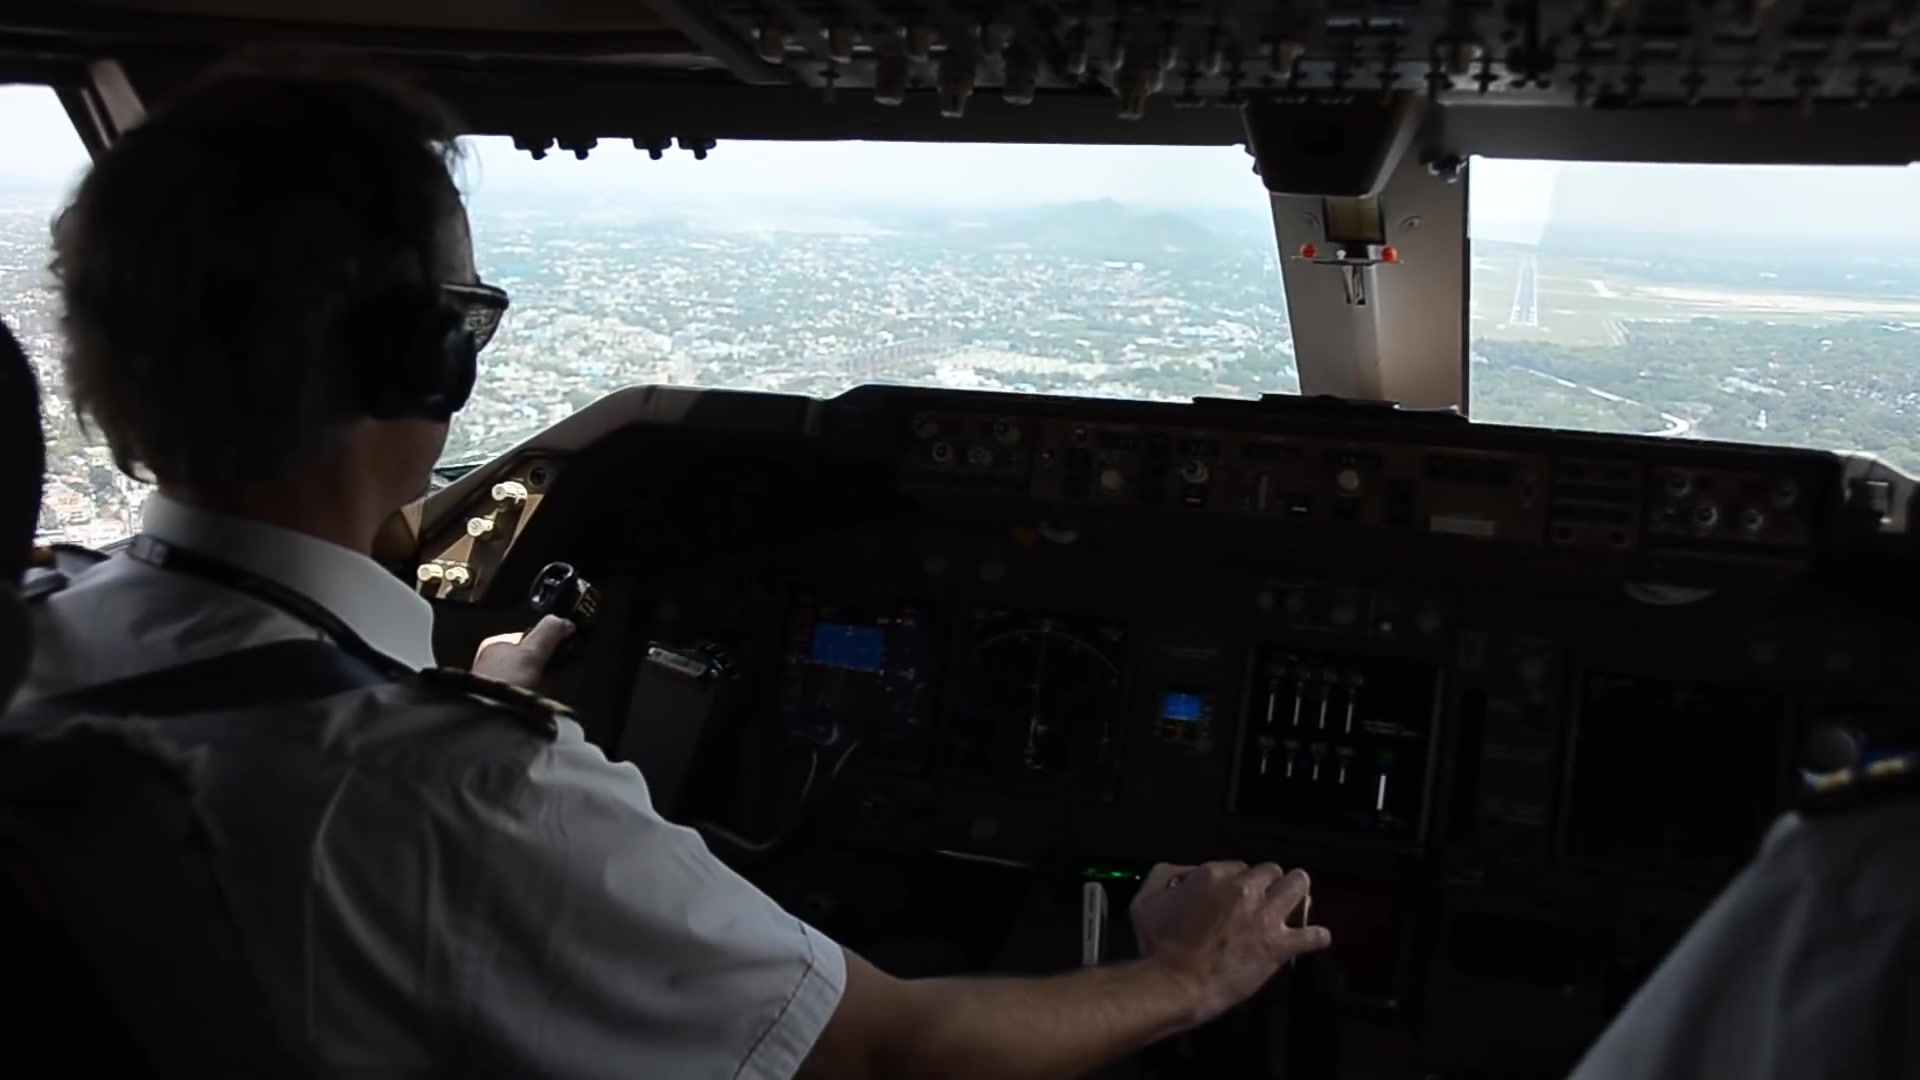runway: (1509, 253, 1539, 330)
